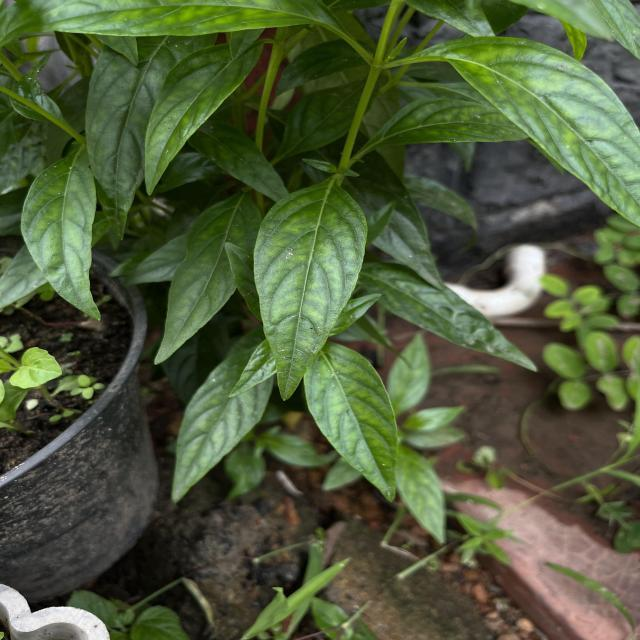Andrographis paniculata: (418, 35, 640, 229), (252, 182, 371, 402), (363, 262, 541, 374), (140, 43, 266, 196), (152, 188, 258, 368), (170, 336, 272, 505), (310, 342, 400, 504), (18, 153, 102, 325), (22, 0, 332, 38), (191, 122, 290, 200)
